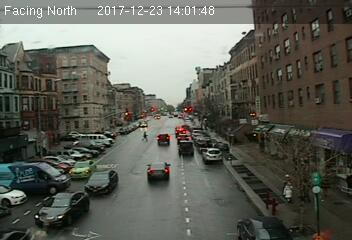car: (33, 191, 89, 226), (85, 167, 119, 195), (68, 160, 98, 179), (145, 160, 171, 180), (177, 139, 196, 156), (203, 147, 223, 162), (155, 133, 171, 146)
pedestrian: (283, 178, 294, 202)
